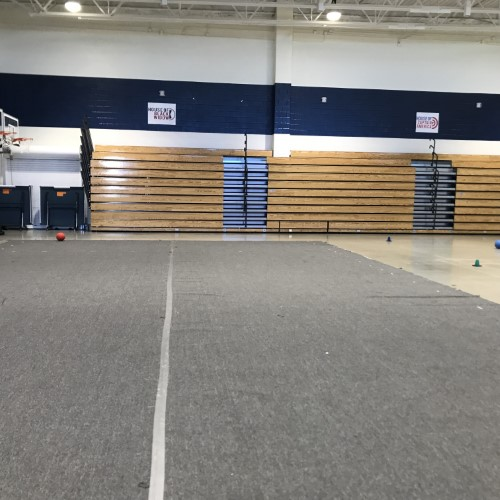blue: (492, 239, 500, 248)
red: (55, 231, 67, 241)
